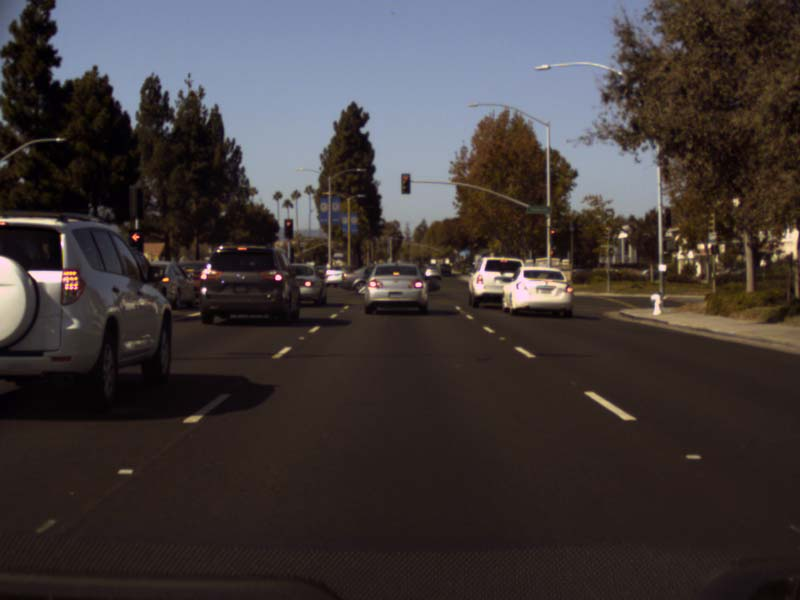Red: (128, 230, 142, 259), (401, 174, 409, 192), (285, 220, 291, 236), (550, 229, 554, 243)
